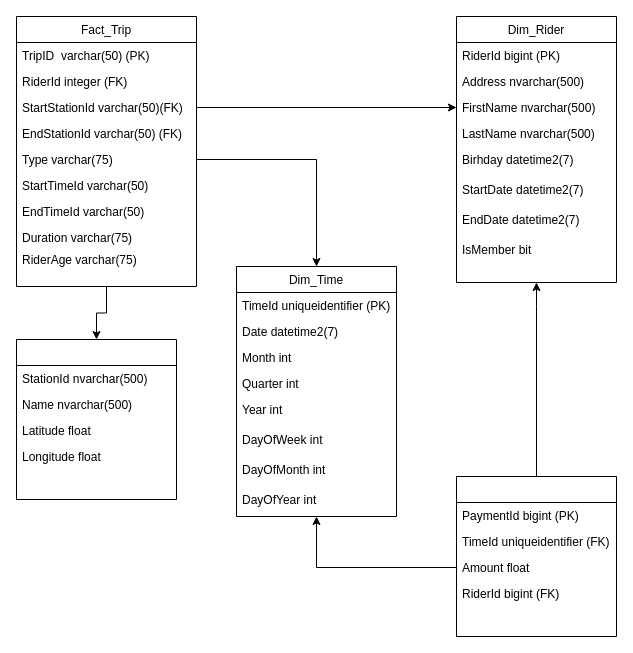
Some shapes in this 633 by 653 pixel diagram are drawn without their labels. The shapes that lost their labels are listed below. From the top down, each one's box as (x1, y1, x2, y2) in pixels, then its label:
(16, 338, 176, 500): Dim_Station
(456, 476, 616, 636): Fact_Payment
